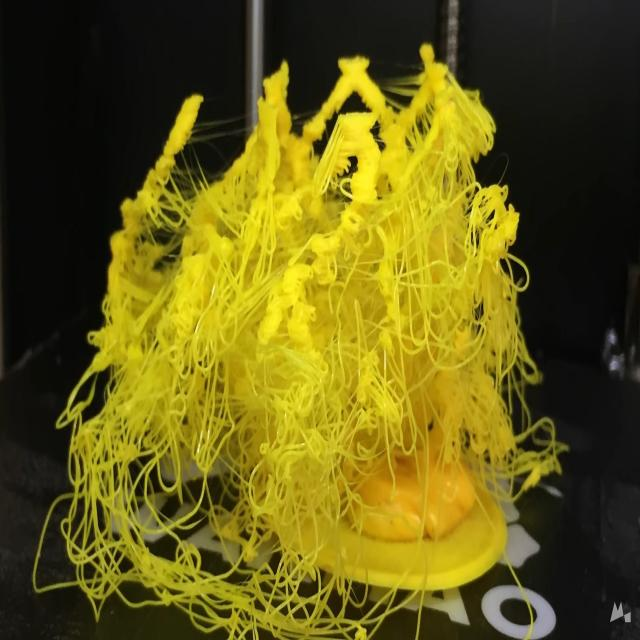spaghetti: (69, 38, 568, 616)
